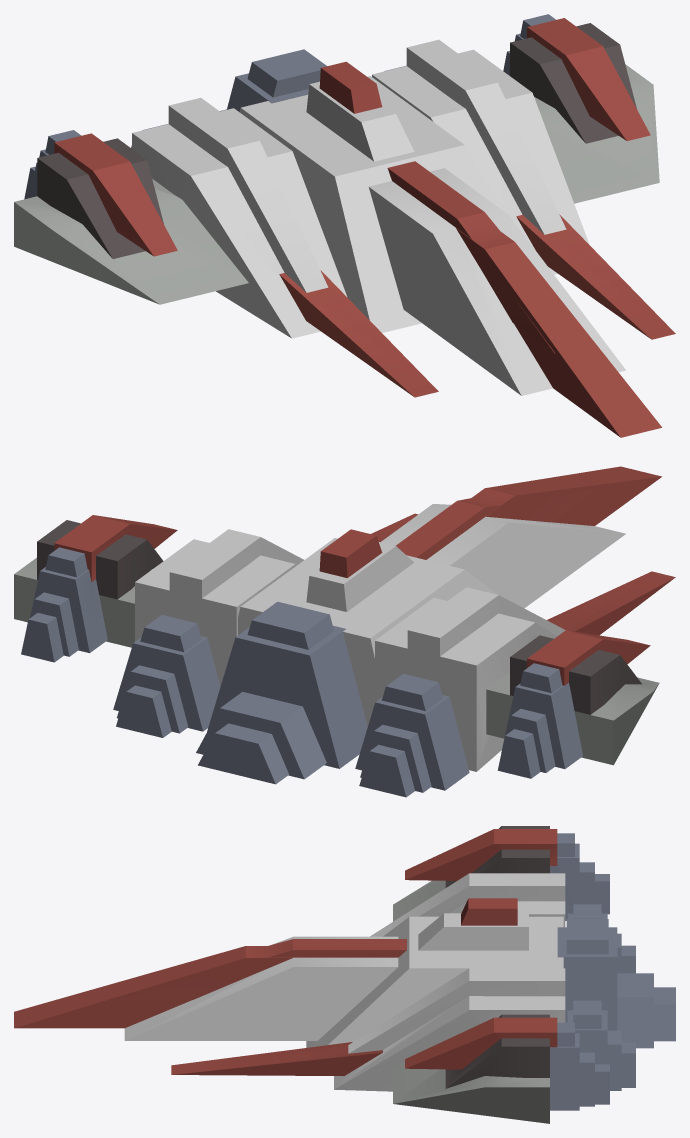
The model's file is Ship_Bommer.fbx.
3 renders of one model, top to bottom at view 1: azimuth 30°, elevation 25°; view 2: azimuth 150°, elevation 25°; view 3: azimuth 270°, elevation 25°, orthographic. The views are drawn at different scales.
Parts seen in each view (by area): view 1: pCube267; view 2: pCube267; view 3: pCube267.
Part boxes in pixels (x1,y1,x2,y2): pCube267: [14, 14, 675, 437]; pCube267: [14, 466, 675, 797]; pCube267: [14, 826, 675, 1123].
Size of the model in its own units: 5.89 by 1.46 by 6.89.
